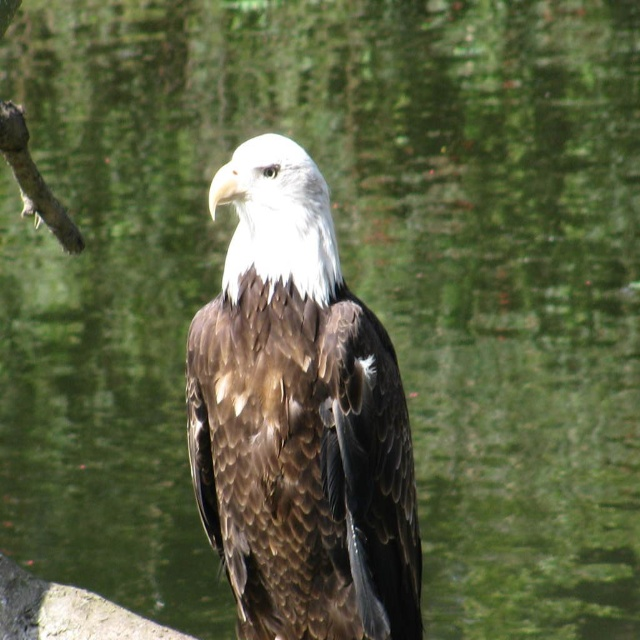Eagle: (184, 134, 423, 638)
